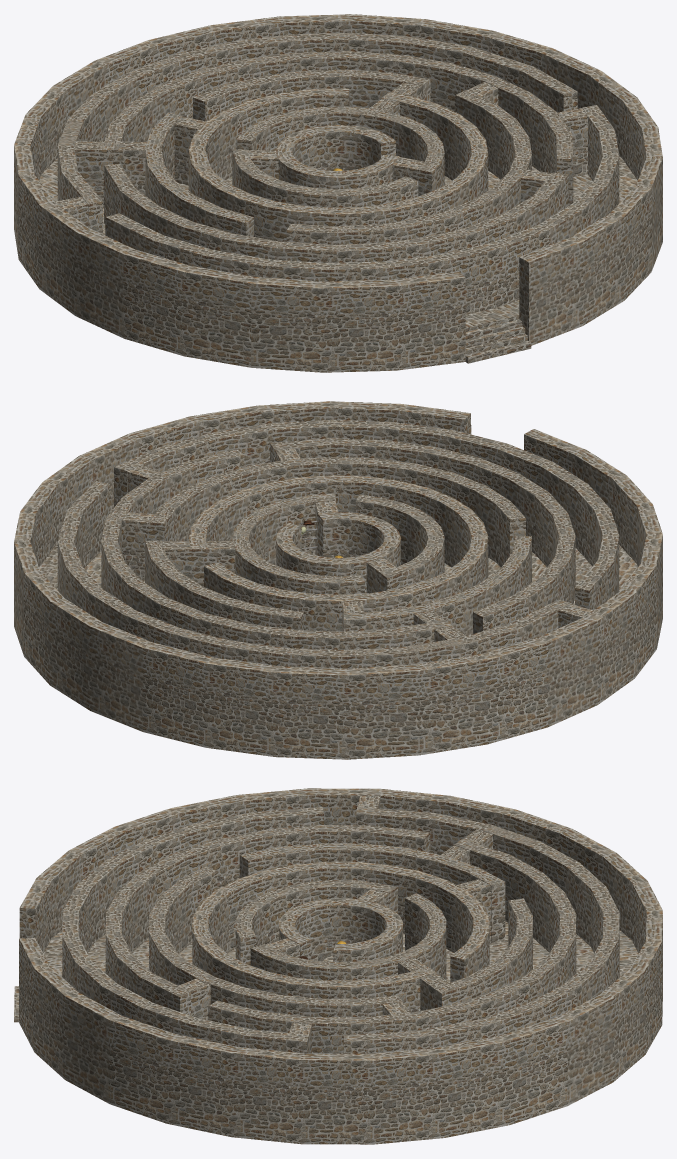
Rendered from maze.fbx.
The picture shows the model from 3 angles, top to bottom: view 1: azimuth 30°, elevation 25°; view 2: azimuth 150°, elevation 25°; view 3: azimuth 270°, elevation 25°; orthographic projection.
Visible parts, largest first — view 1: Cube; view 2: Cube; view 3: Cube.
Part boxes in pixels (left/top/right/bottom): Cube: left=14, top=14, right=662, bottom=372; Cube: left=14, top=401, right=662, bottom=759; Cube: left=14, top=788, right=662, bottom=1144.
Size of the model in its own units: 59502 by 8553 by 59957.
